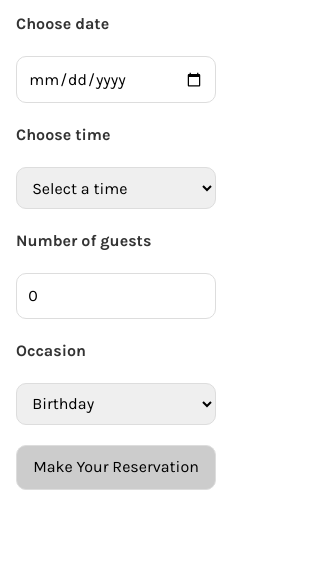
Test: BookingForm › Guests validation › shows error for guests more than 10
Replace the text in the number field labelled "Number of guests" with "11" at coordinates (116, 296), box [16, 273, 216, 319]
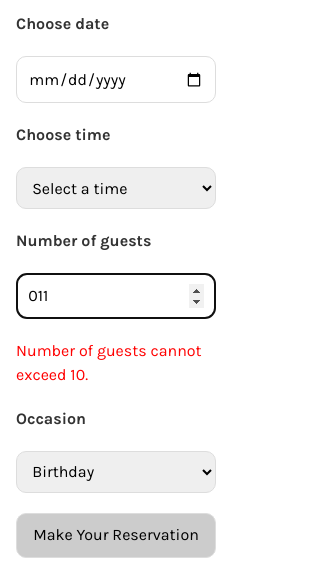
Now the text "Number of guests cannot exceed 10." is shown, box [16, 339, 216, 387]
